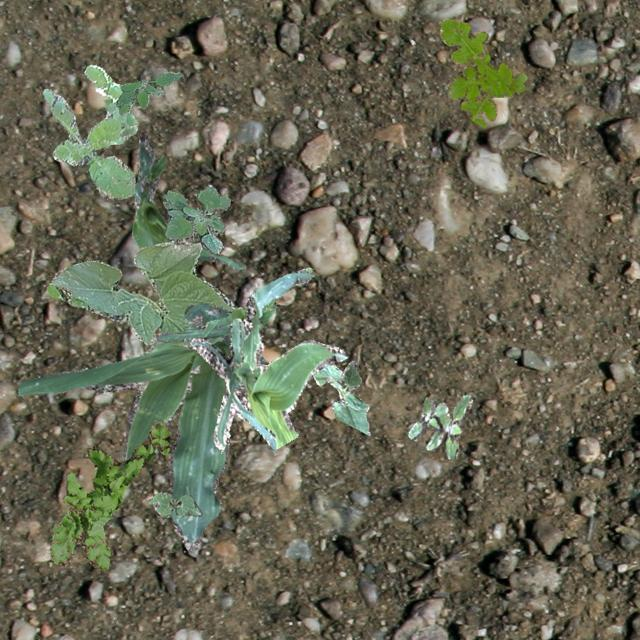crop: (18, 302, 268, 550), (190, 270, 346, 450), (45, 236, 234, 344), (130, 134, 244, 268), (157, 266, 310, 342), (311, 360, 369, 434), (146, 492, 202, 516)
weed: (50, 420, 170, 570), (42, 64, 136, 198), (438, 18, 526, 126), (162, 185, 228, 252), (408, 394, 472, 458), (114, 70, 180, 114)
